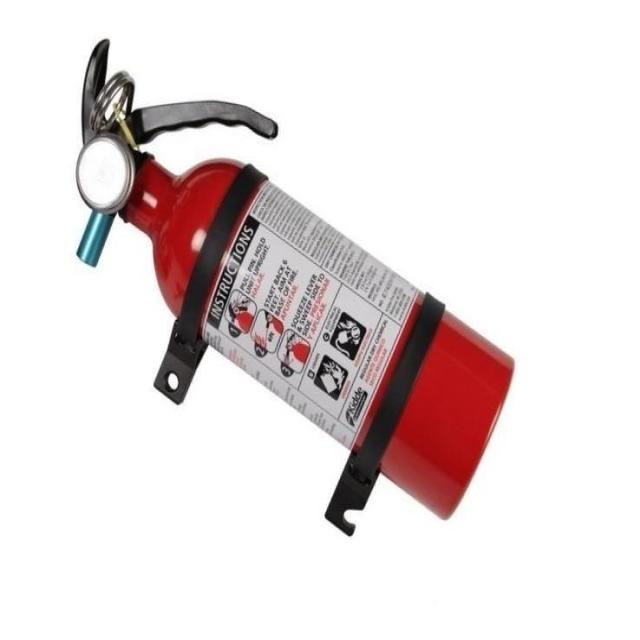fire_extinguisher: (62, 27, 518, 530)
